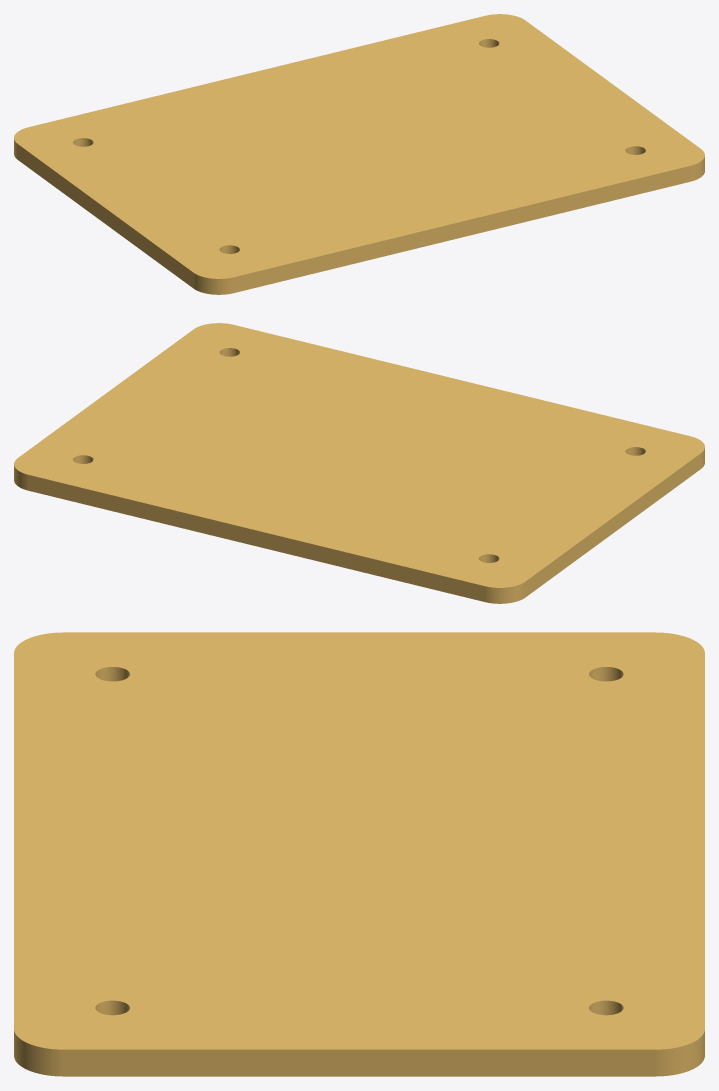
The model's file is enclosure_lid.glb.
The picture shows the model from 3 angles, top to bottom: view 1: azimuth 30°, elevation 25°; view 2: azimuth 150°, elevation 25°; view 3: azimuth 270°, elevation 25°; orthographic projection. The views are drawn at different scales.
Parts seen in each view (by area): view 1: enclosure_lid; view 2: enclosure_lid; view 3: enclosure_lid.
Boxes of the visible parts, x1,y1,x2,y2 form: enclosure_lid: [14, 14, 704, 294]; enclosure_lid: [14, 323, 704, 603]; enclosure_lid: [14, 632, 704, 1076].
Size of the model in its own units: 0.1 by 0.003 by 0.07.
